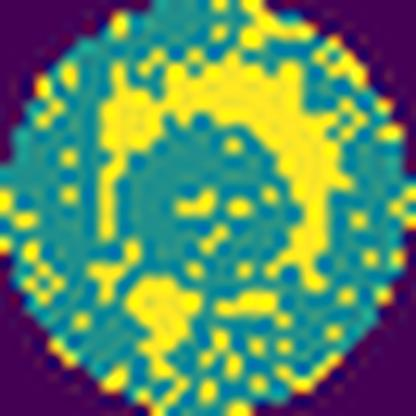Donut: (81, 44, 357, 382)
